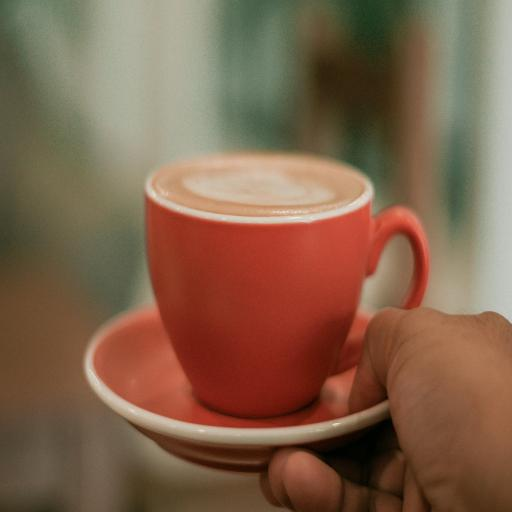cup: (144, 152, 430, 418)
